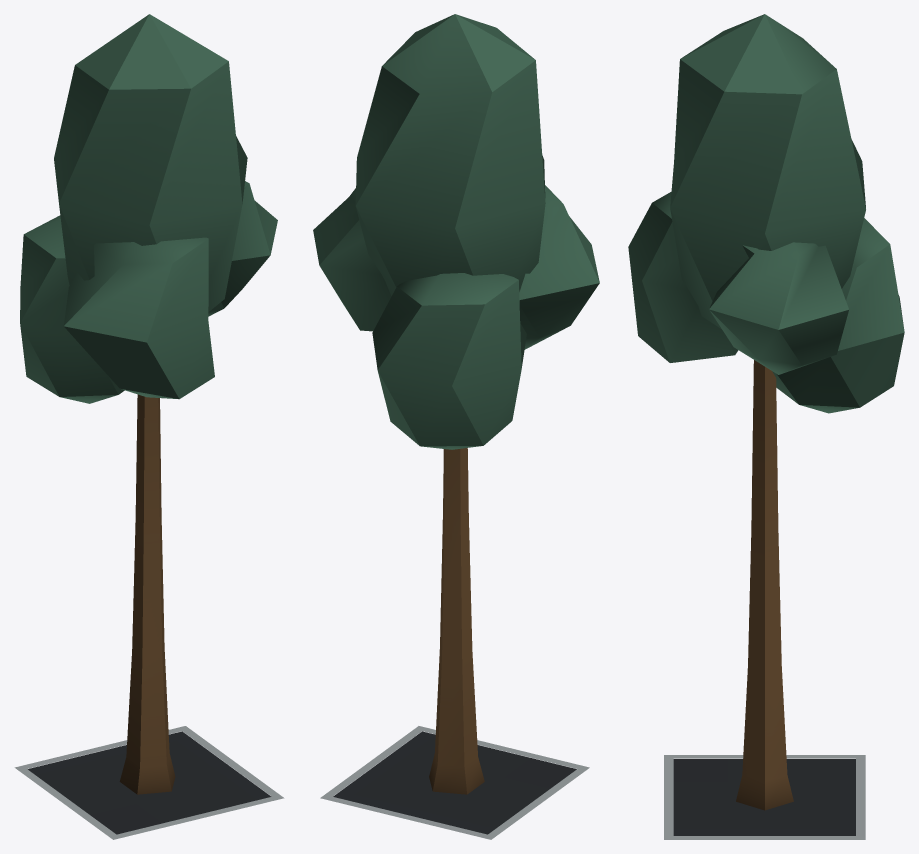
File: tree-column.lod2.glb
3 renders of one model, left to right at view 1: azimuth 30°, elevation 25°; view 2: azimuth 150°, elevation 25°; view 3: azimuth 270°, elevation 25°, orthographic.
Visible parts, largest first — view 1: structure; view 2: structure; view 3: structure.
Boxes of the visible parts, x1,y1,x2,y2 form: structure: (14, 14, 284, 839); structure: (313, 14, 599, 839); structure: (628, 14, 904, 839).
Size of the model in its own units: 2.49 by 7.3 by 2.33.
